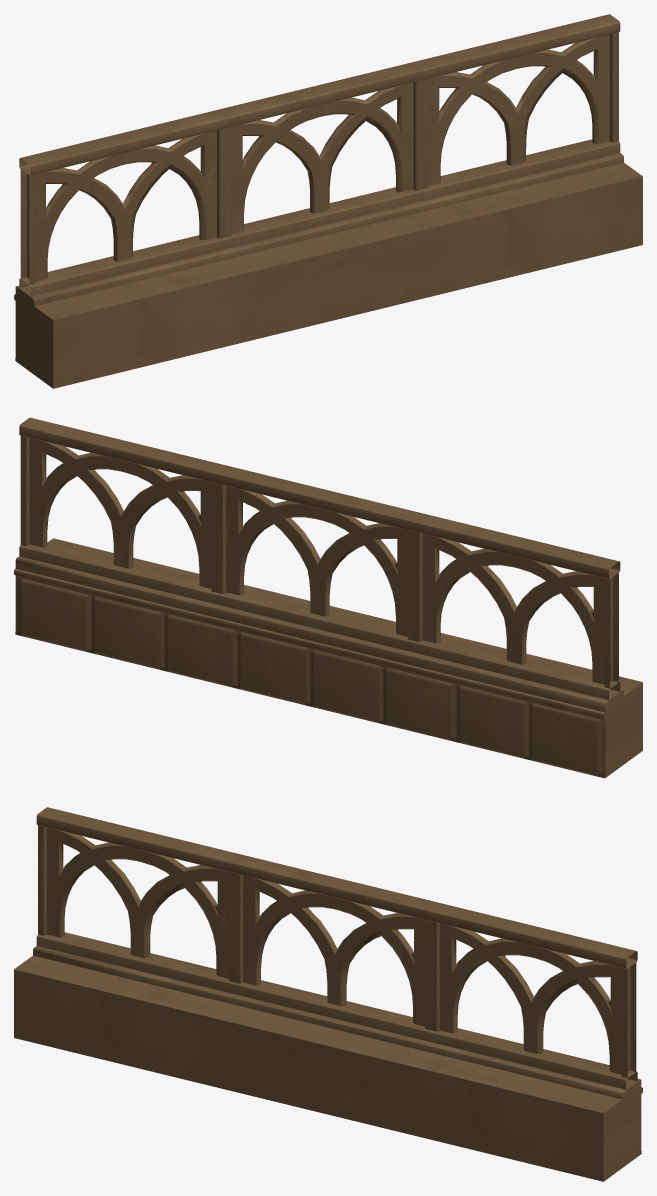
File: SM_Building01RailingLR.fbx
The picture shows the model from 3 angles, top to bottom: view 1: azimuth 30°, elevation 25°; view 2: azimuth 150°, elevation 25°; view 3: azimuth 330°, elevation 25°; orthographic projection.
Visible parts, largest first — view 1: SM_Building01RailingLR_LOD0; view 2: SM_Building01RailingLR_LOD0; view 3: SM_Building01RailingLR_LOD0.
Part boxes in pixels (x1,y1,x2,y2): SM_Building01RailingLR_LOD0: [14, 14, 642, 388]; SM_Building01RailingLR_LOD0: [14, 417, 642, 778]; SM_Building01RailingLR_LOD0: [14, 807, 642, 1181].
Size of the model in its own units: 450 by 52.2 by 151.
2 materials, 2 textured.
